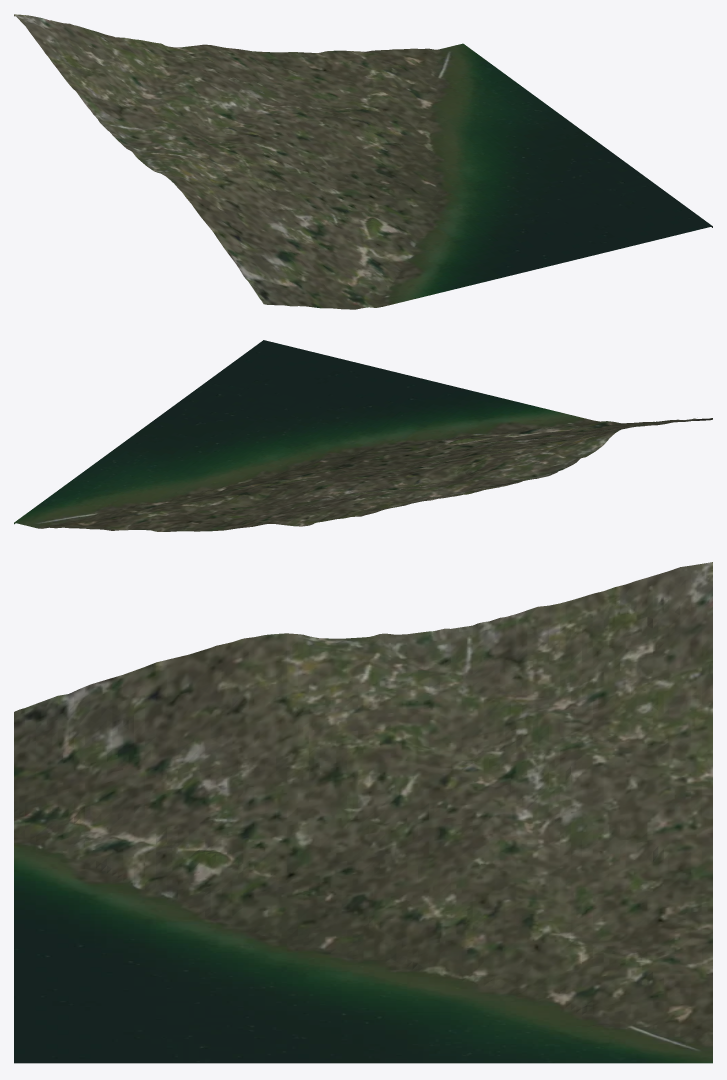
3 renders of one model, top to bottom at view 1: azimuth 30°, elevation 25°; view 2: azimuth 150°, elevation 25°; view 3: azimuth 270°, elevation 25°, orthographic. The views are drawn at different scales.
Size of the model in its own units: 250 by 74.86 by 241.
Materials: 1 (1 with a texture image).
